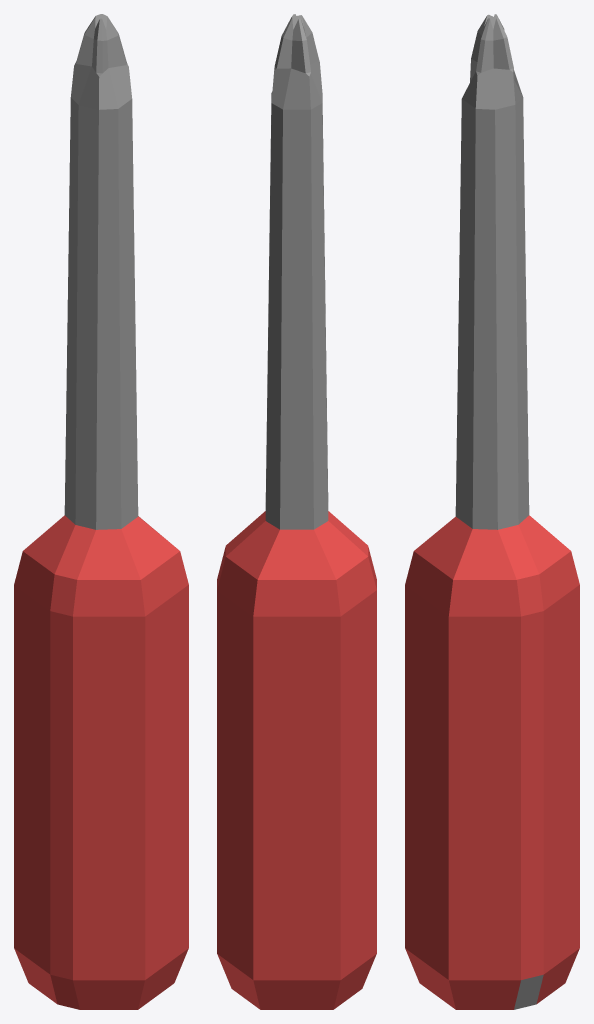
File: phillips_screwdriver.fbx
The picture shows the model from 3 angles, left to right: view 1: azimuth 30°, elevation 25°; view 2: azimuth 150°, elevation 25°; view 3: azimuth 270°, elevation 25°; orthographic projection.
Parts seen in each view (by area): view 1: phillips_screwdriver; view 2: phillips_screwdriver; view 3: phillips_screwdriver.
Part boxes in pixels (x1,y1,x2,y2): phillips_screwdriver: [14, 14, 188, 1009]; phillips_screwdriver: [217, 14, 376, 1009]; phillips_screwdriver: [405, 14, 579, 1009].
Size of the model in its own units: 16.9 by 119 by 19.52.
